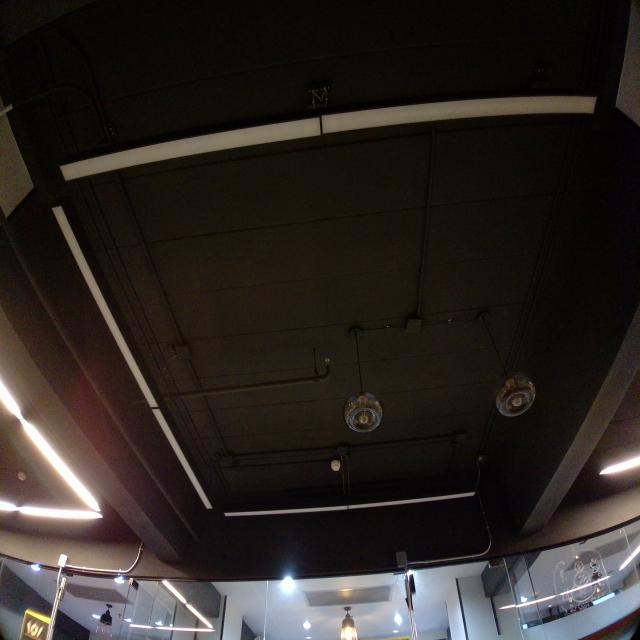lamp2_off: (51, 85, 606, 194), (43, 197, 221, 516), (221, 483, 486, 522)
